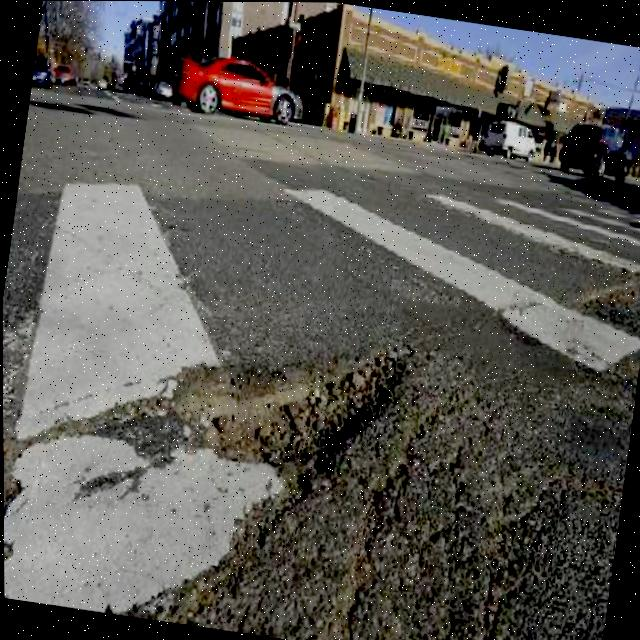Pothole: (142, 297, 419, 506)
